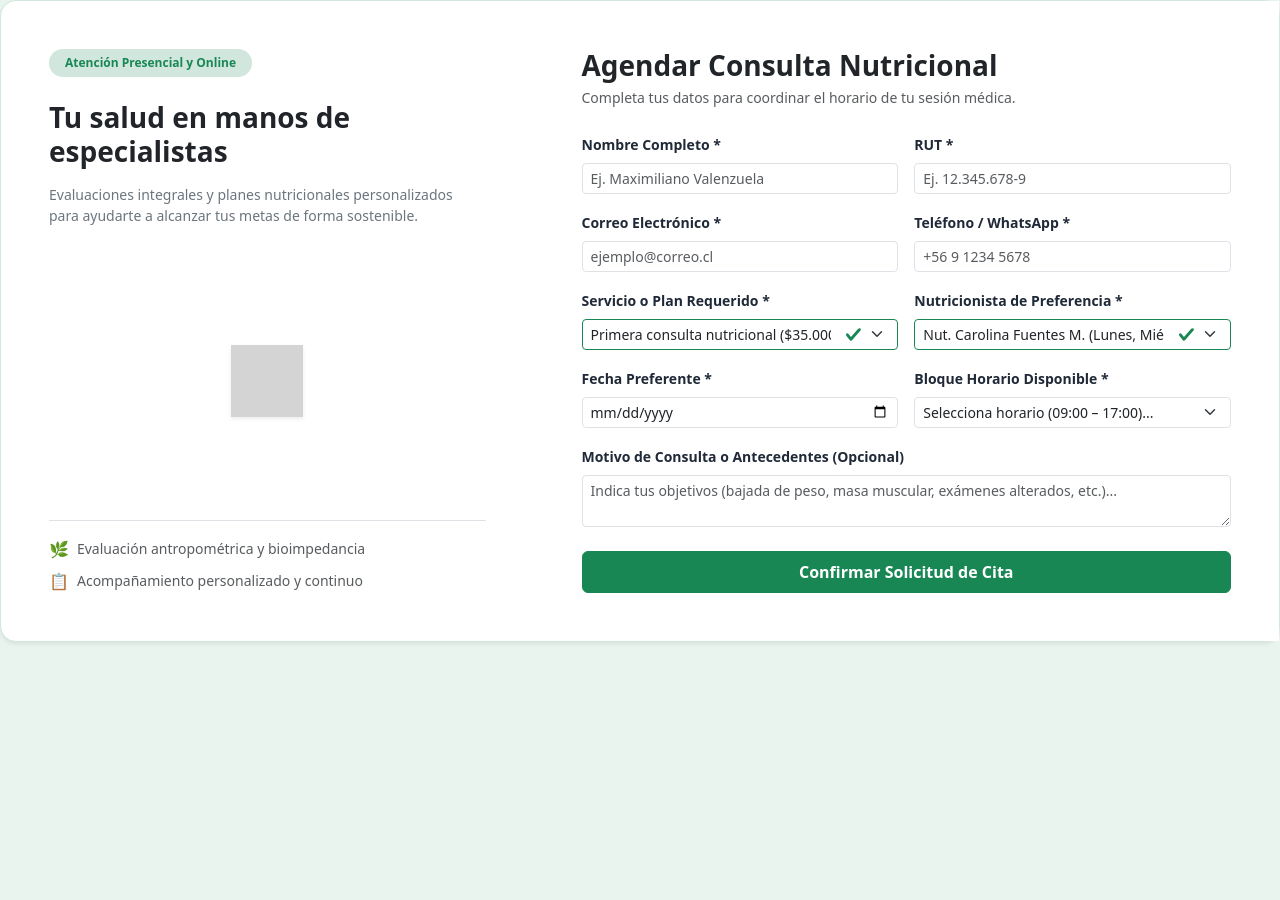
Test: Componente AppointmentFormSection › debe mostrar errores de validación y NO guardar si el formulario está vacío
Click the button "Confirmar Solicitud de Cita" at (906, 572), box [582,551,1231,593]
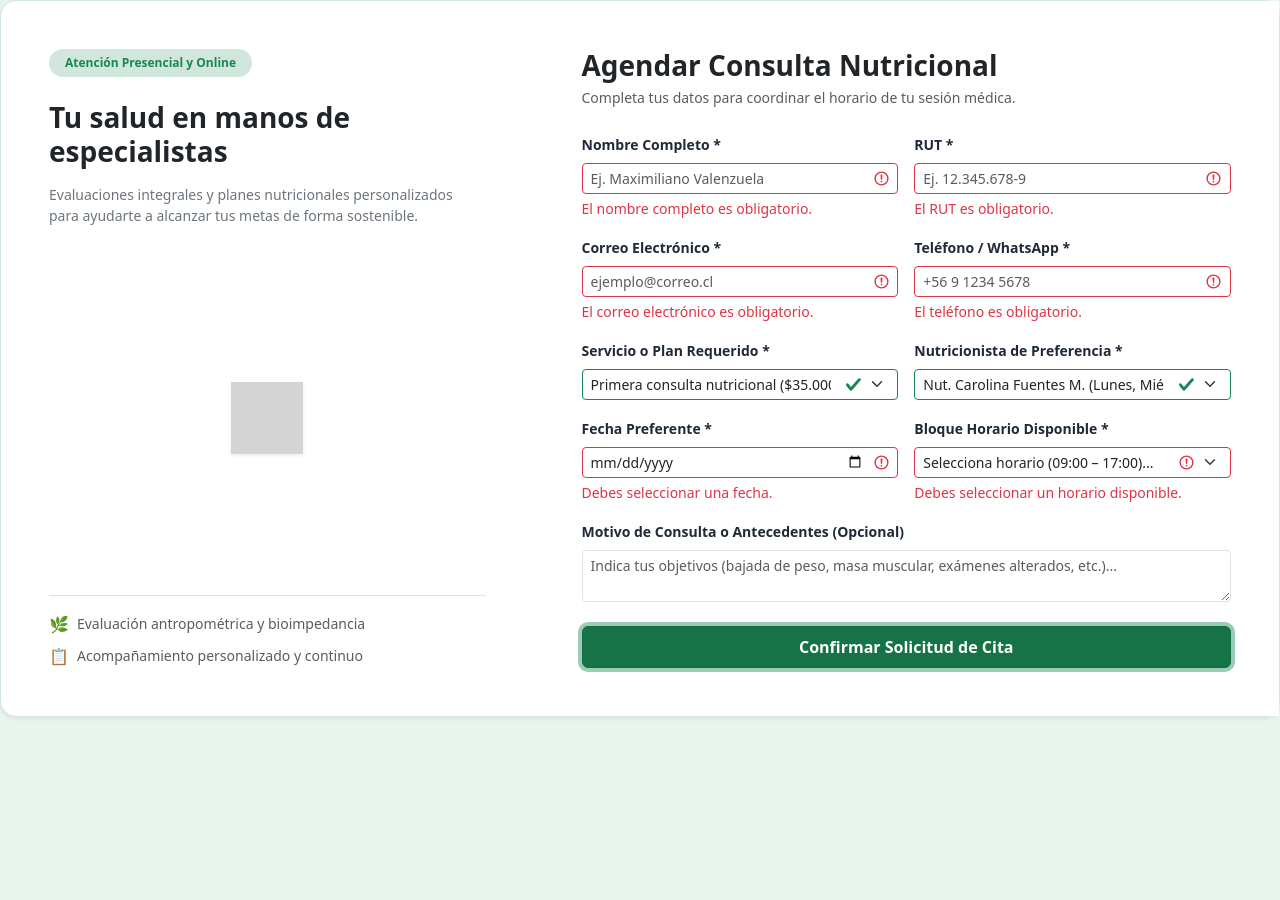
Now the text "El nombre completo es obligatorio." is shown, box [582,199,812,218]
Now the text "El RUT es obligatorio." is shown, box [914,199,1054,218]
Now the text "El correo electrónico es obligatorio." is shown, box [582,302,813,321]
